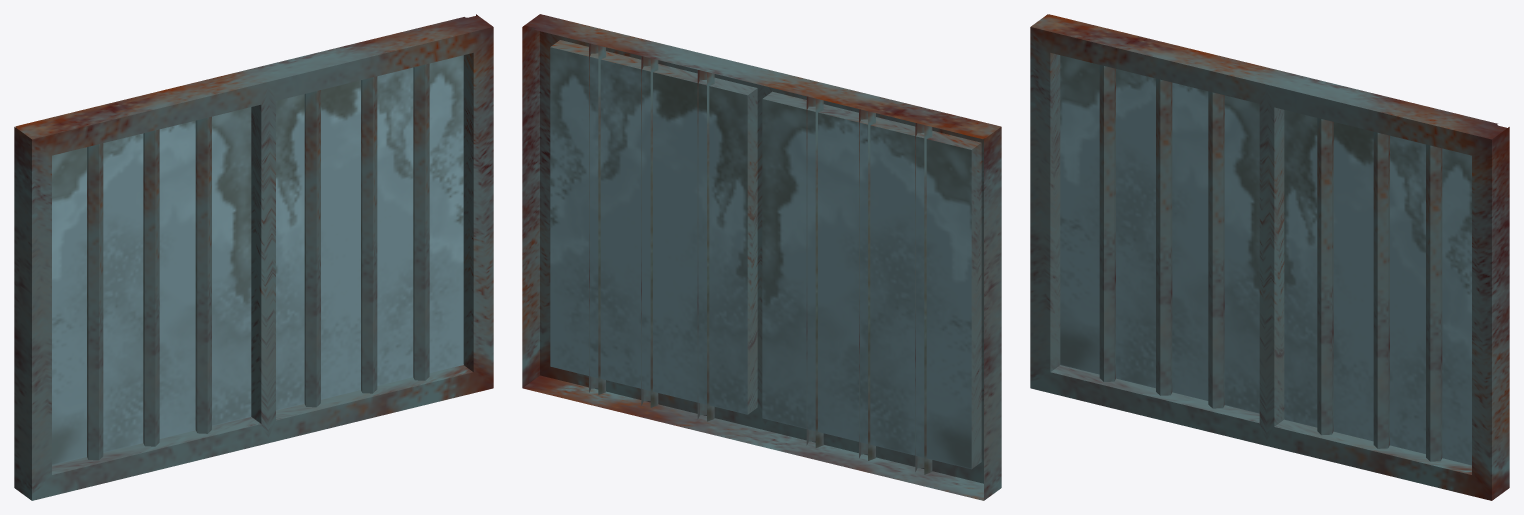
The model's file is JanelaHorizontalDivisoriaGradeada.fbx.
The picture shows the model from 3 angles, left to right: view 1: azimuth 30°, elevation 25°; view 2: azimuth 150°, elevation 25°; view 3: azimuth 330°, elevation 25°; orthographic projection.
Visible parts, largest first — view 1: JanelaHorizontalDivisoriaGradeada; view 2: JanelaHorizontalDivisoriaGradeada; view 3: JanelaHorizontalDivisoriaGradeada.
Part boxes in pixels (box(x1,y1,x2,y2)): JanelaHorizontalDivisoriaGradeada: box(14, 14, 493, 500); JanelaHorizontalDivisoriaGradeada: box(522, 14, 1001, 500); JanelaHorizontalDivisoriaGradeada: box(1030, 14, 1509, 500).
Size of the model in its own units: 435 by 325 by 28.8.
